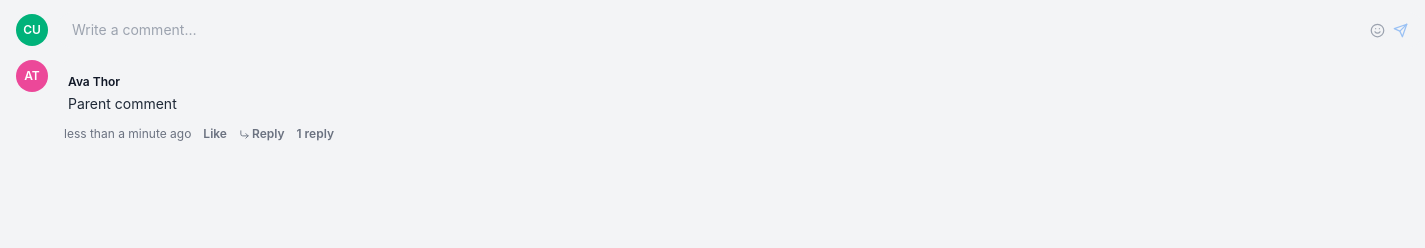
Test: CommentSection › shows a reply once repliesCount and replies are both present
Expected: the text "Parent comment" is shown, [68,94,177,114]
Expected: the text "A reply" is not shown
Click the button "1 reply" at (315, 134), box [296,126,334,142]
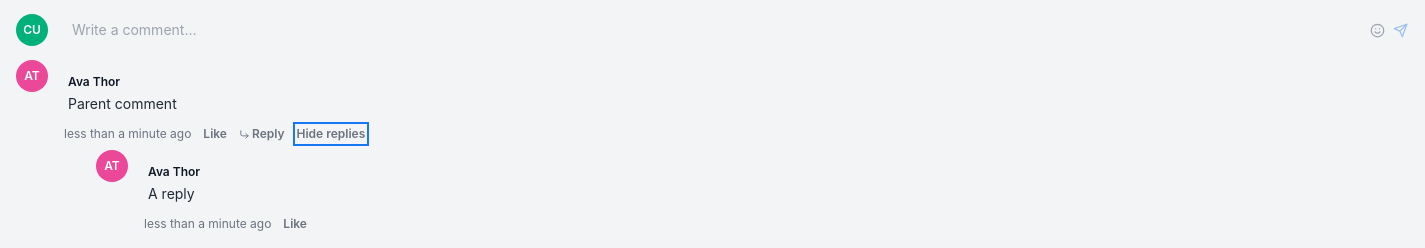
Expected: the text "A reply" is shown, [148,184,200,204]
